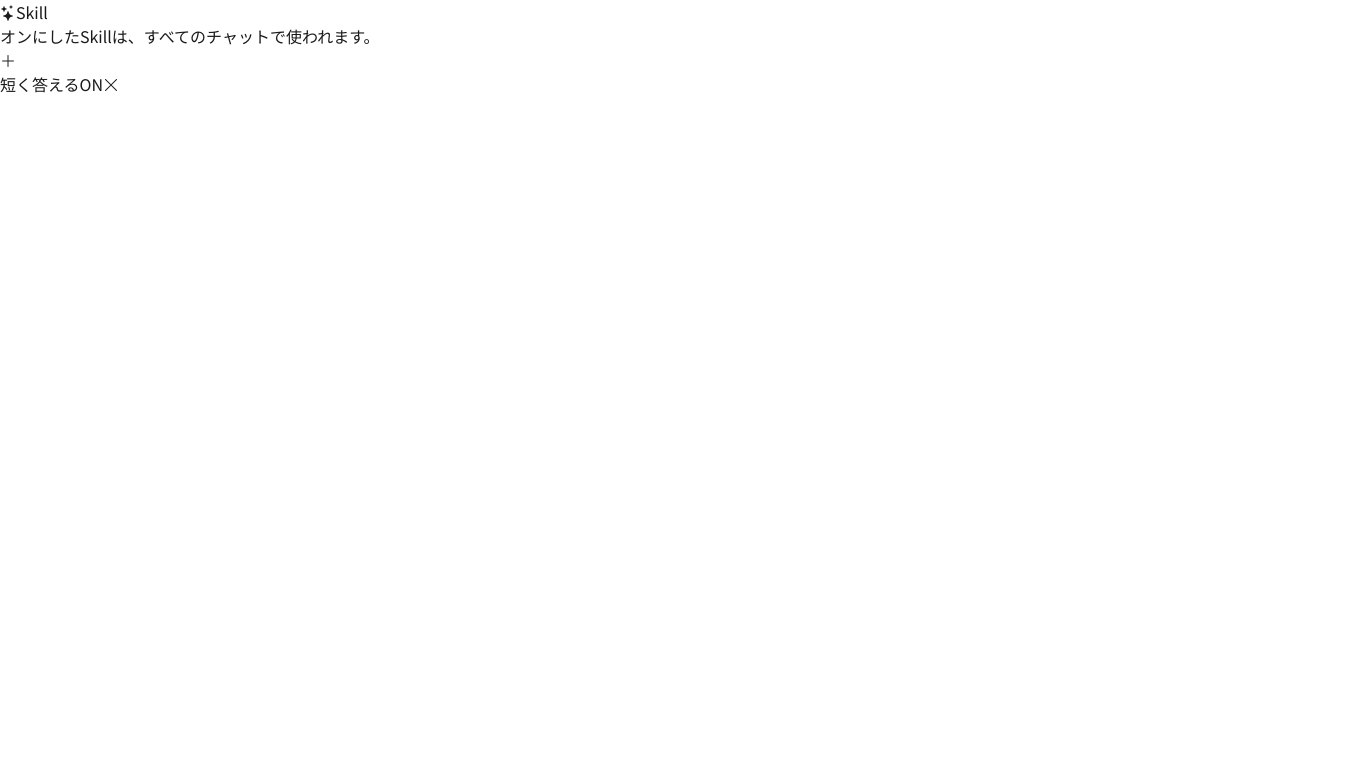
Test: SkillSection › renders Markdown in the full Skill instructions modal
The width and height of the screenshot is (1366, 768).
What coordinates should you click on to do the following:
click the button with aria-label "短く答えるの内容を表示"
I would click on:
 (40, 84)
Its box is [0, 72, 80, 96].
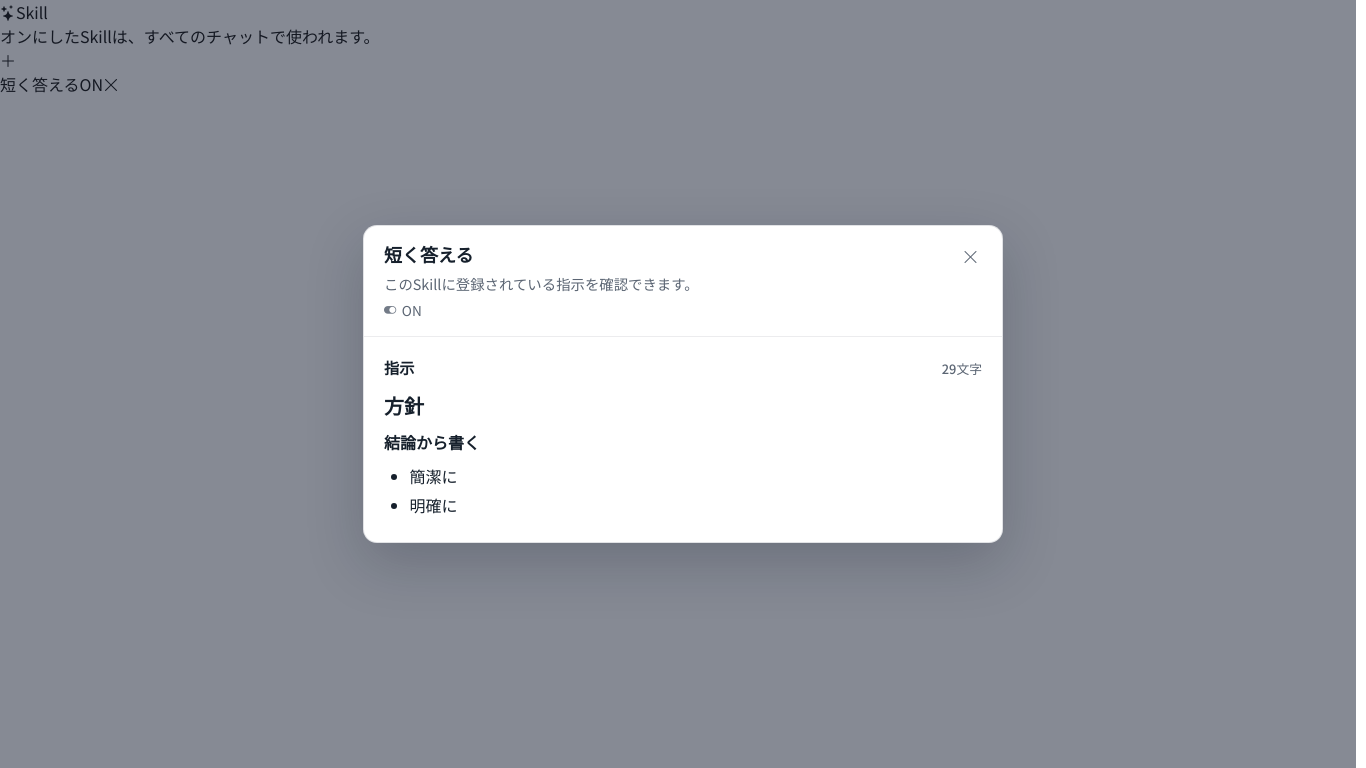
Check: the dialog is shown
Check: the heading "短く答える" is shown, box [384, 241, 474, 267]
Check: the heading "方針" is shown, box [384, 391, 424, 420]
What coordinates should you click on to do the following:
click the button named "モーダルを閉じる"
I would click on:
 (970, 256)
Its box is [952, 238, 988, 274].
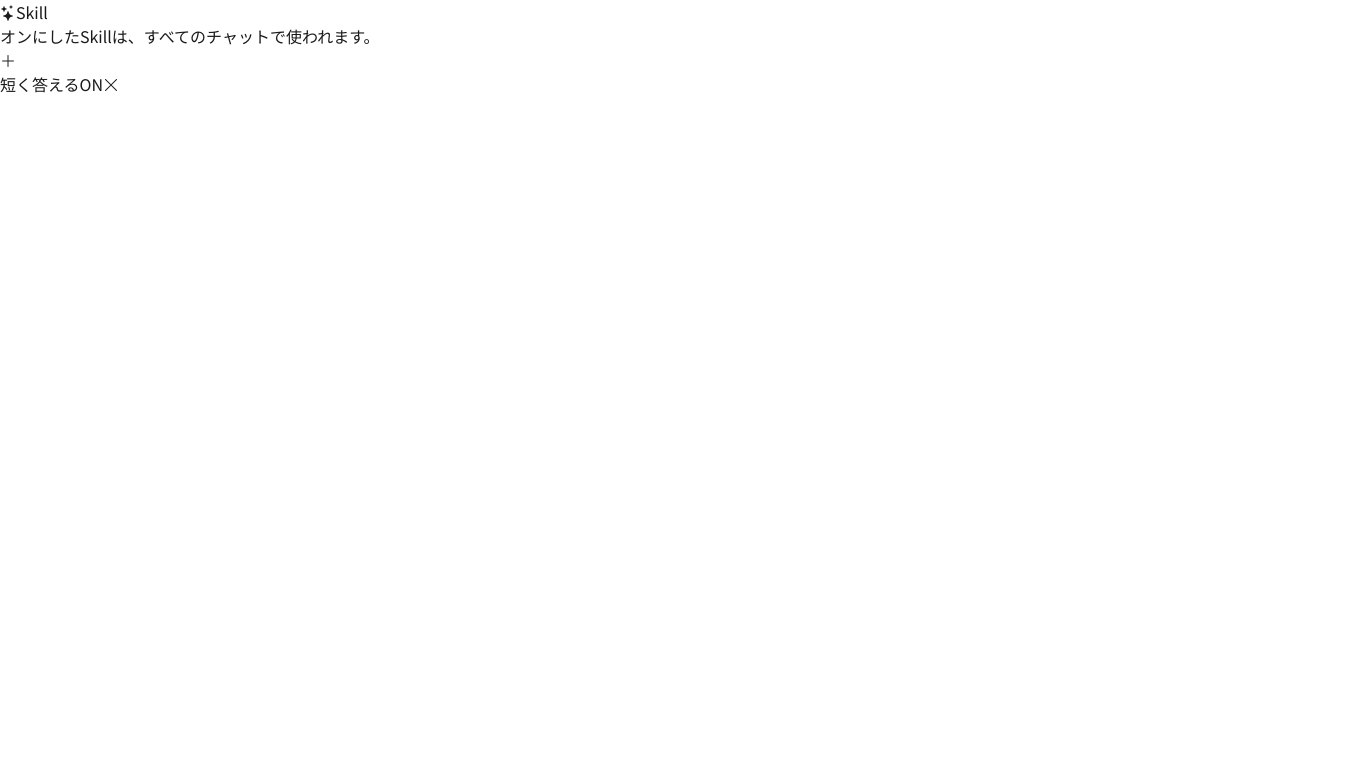
Check: the dialog is gone
